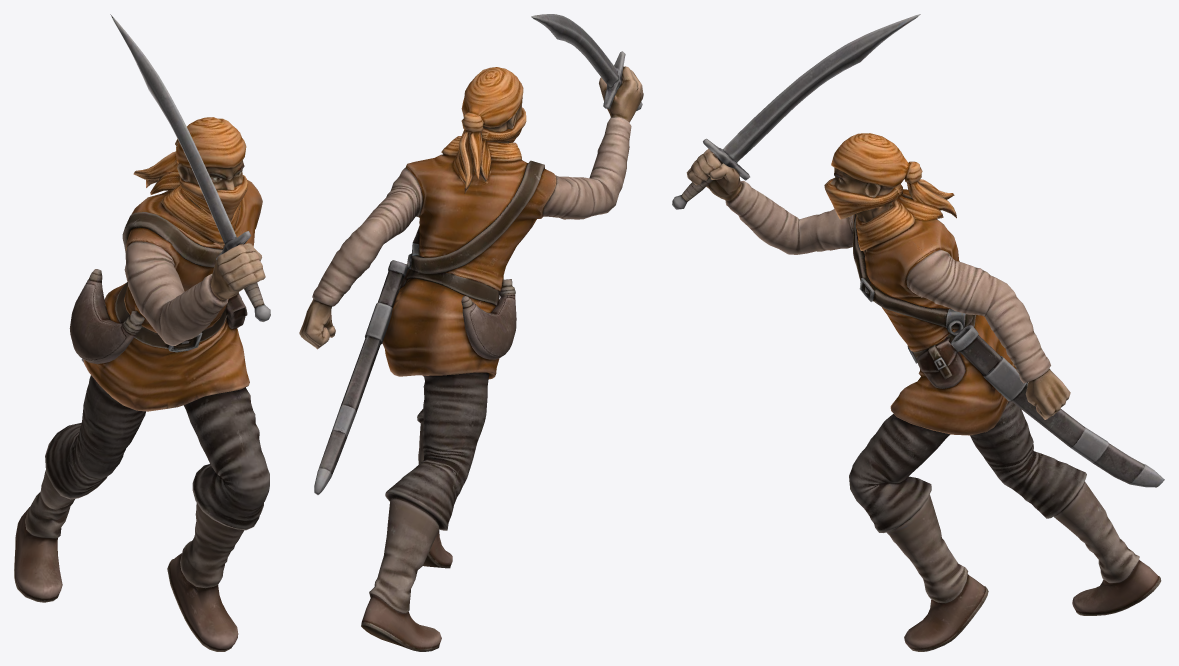
Rendered from MZ4250 - Bandit Male 03.glb.
3 renders of one model, left to right at view 1: azimuth 30°, elevation 25°; view 2: azimuth 150°, elevation 25°; view 3: azimuth 270°, elevation 25°, orthographic. The views are drawn at different scales.
Visible parts, largest first — view 1: BanditMale01; view 2: BanditMale01; view 3: BanditMale01.
Part boxes in pixels (<box>): BanditMale01: <box>14,14,270,651</box>; BanditMale01: <box>299,14,643,651</box>; BanditMale01: <box>672,14,1164,651</box>.
Bounding box in the file's own units: 0.4241 × 1.24 × 0.9457.
Materials: 1 (1 with a texture image).
